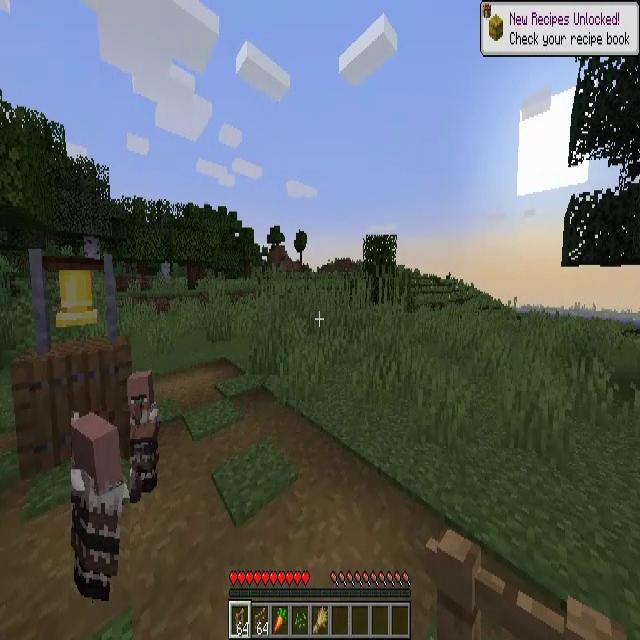people: (71, 411, 130, 601), (126, 369, 162, 492)
